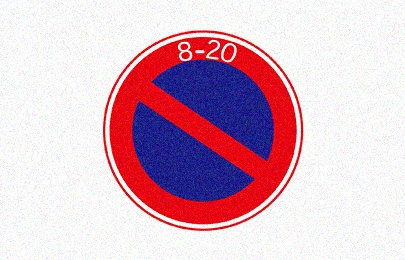Prohibition_sign: (95, 23, 315, 244)
